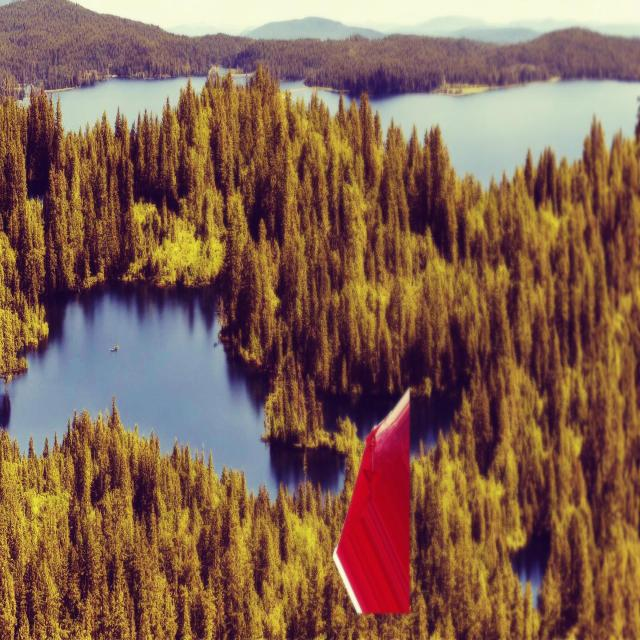airplane: (333, 390, 410, 614)
